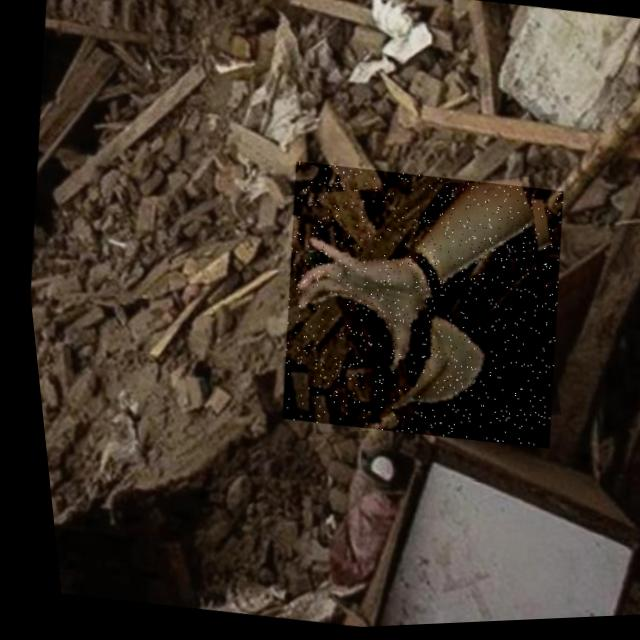Person in Rubble: (252, 154, 579, 462)
